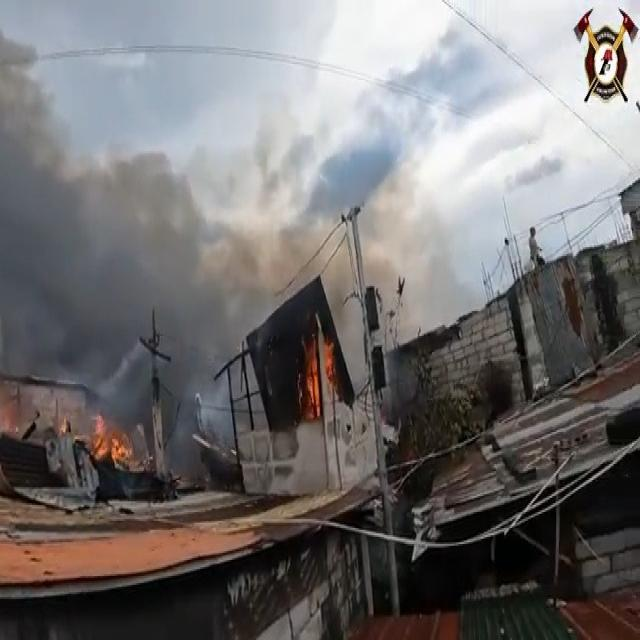Fire: (46, 411, 143, 472), (297, 329, 335, 423)
Smoke: (0, 55, 341, 484)
